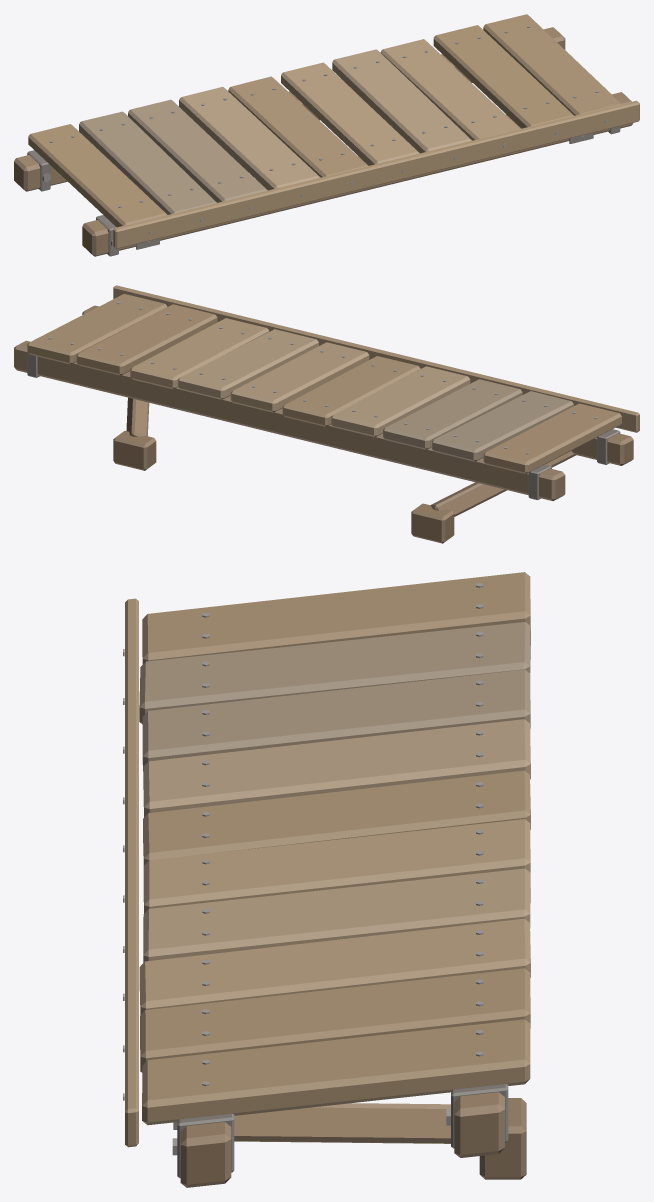
The model's file is platform_bracket_300.glb.
The picture shows the model from 3 angles, top to bottom: view 1: azimuth 30°, elevation 25°; view 2: azimuth 150°, elevation 25°; view 3: azimuth 270°, elevation 25°; orthographic projection. The views are drawn at different scales.
Visible parts, largest first — view 1: Wood, Iron; view 2: Wood, Iron; view 3: Wood, Iron.
Part boxes in pixels (x1,y1,x2,y2): Wood: [14, 14, 639, 256]; Iron: [27, 25, 620, 256]; Wood: [14, 285, 639, 543]; Iron: [27, 302, 620, 500]; Wood: [125, 572, 530, 1187]; Iron: [123, 583, 508, 1178].
Bounding box in the file's own units: 3.2 × 0.5822 × 1.04.
